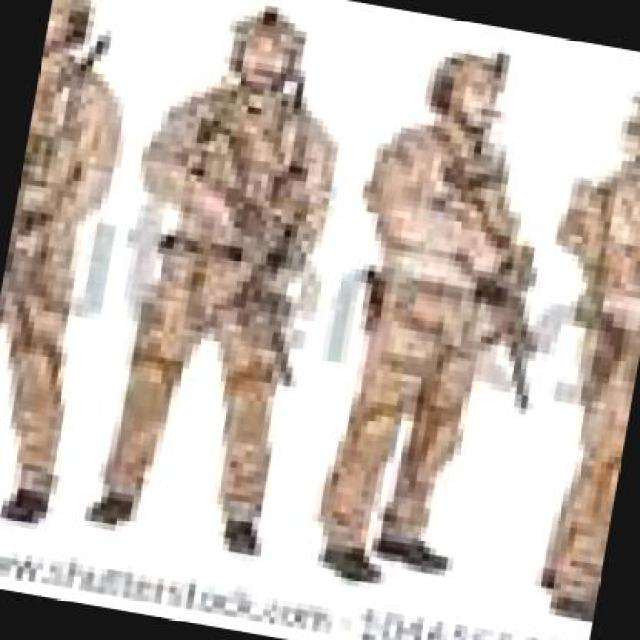MIL_Pax: (66, 0, 365, 563), (295, 36, 553, 601), (472, 72, 638, 638), (0, 0, 143, 540)
